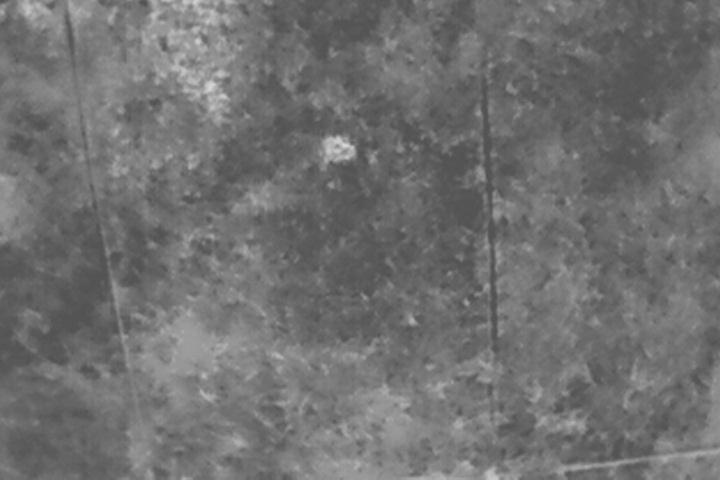landmine: (322, 135, 355, 166)
